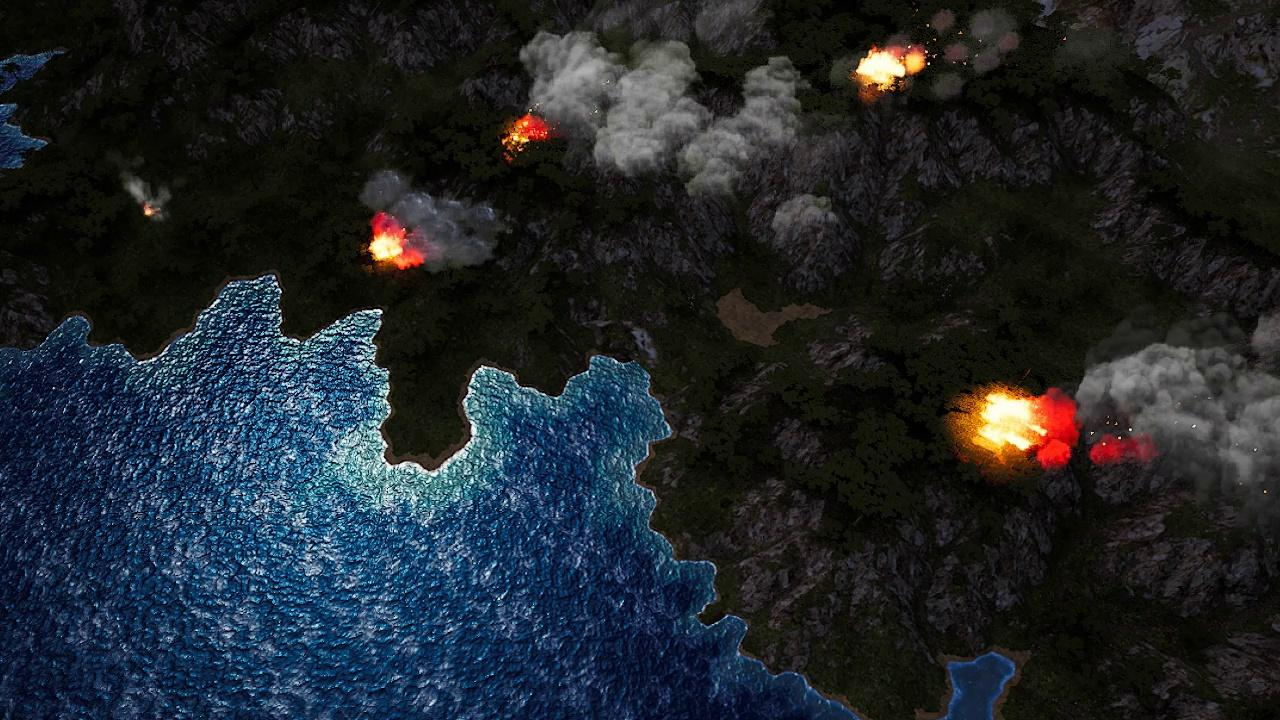fire: (976, 389, 1044, 455), (858, 47, 927, 89), (503, 114, 553, 157), (143, 204, 155, 218)
smoke: (522, 27, 813, 195), (1049, 304, 1275, 507), (363, 167, 510, 269), (926, 6, 1024, 105), (111, 149, 176, 227)
